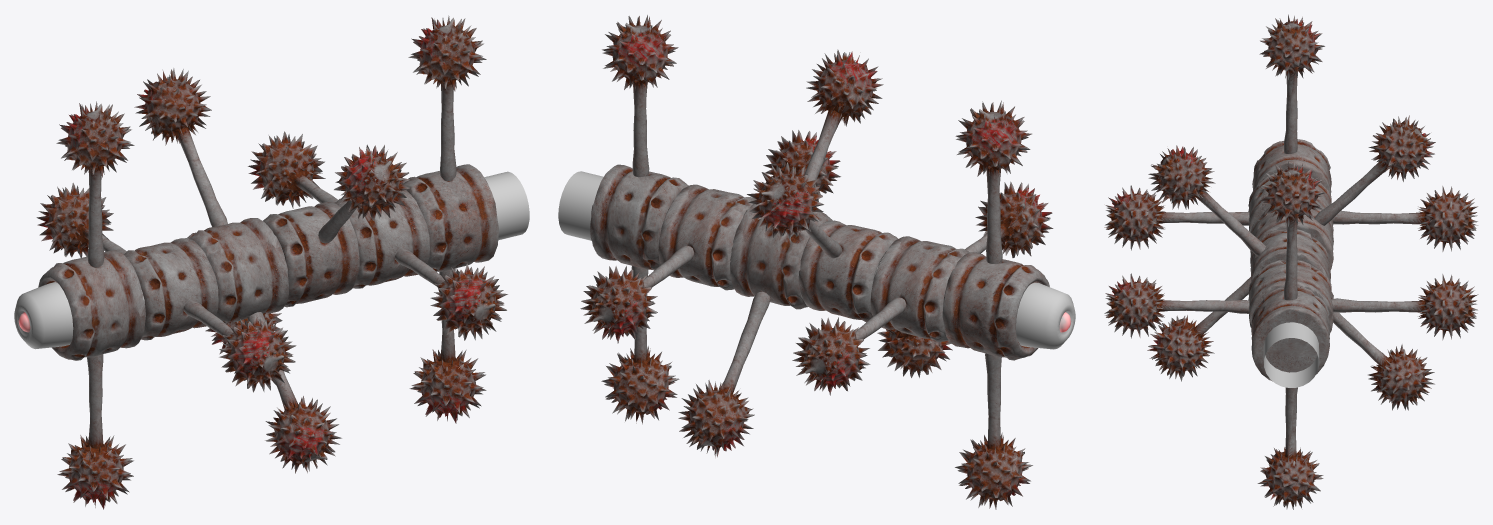
File: mace.fbx
The picture shows the model from 3 angles, left to right: view 1: azimuth 30°, elevation 25°; view 2: azimuth 150°, elevation 25°; view 3: azimuth 270°, elevation 25°; orthographic projection. The views are drawn at different scales.
Parts seen in each view (by area): view 1: mace; view 2: mace; view 3: mace.
Part boxes in pixels (x1,y1,x2,y2): mace: [14, 15, 529, 509]; mace: [558, 15, 1075, 509]; mace: [1104, 14, 1478, 509].
Bounding box in the file's own units: 349 × 269 × 269.
